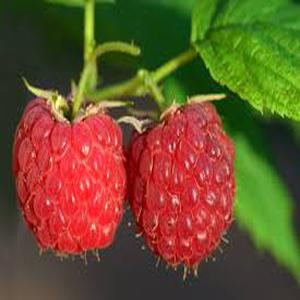raspb: (10, 94, 243, 275)
